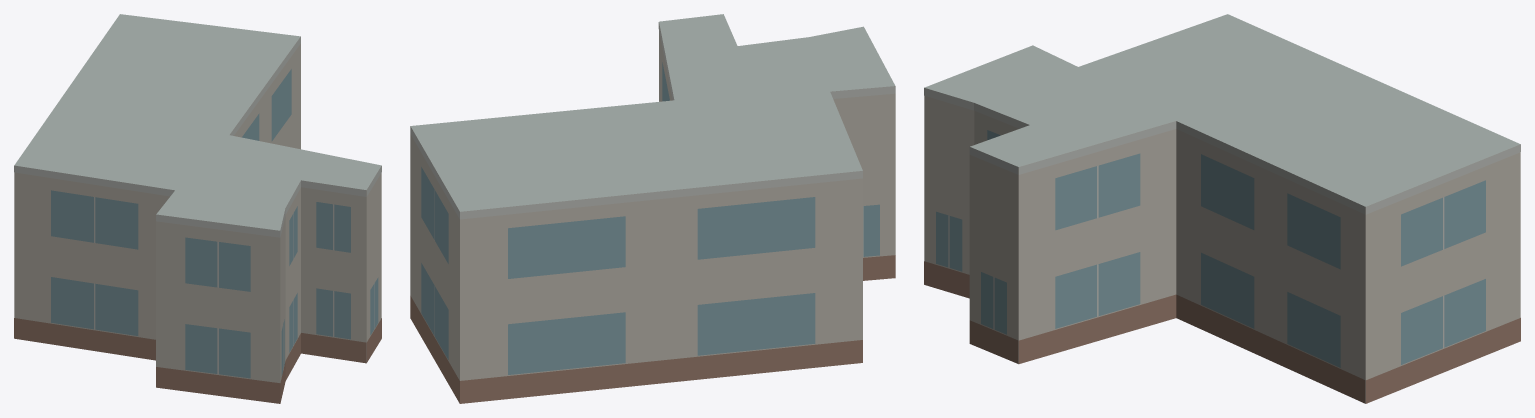
The model's file is survey-upis-32604204.glb.
3 views of the same model, side by side, from view 1: azimuth 30°, elevation 25°; view 2: azimuth 150°, elevation 25°; view 3: azimuth 270°, elevation 25° (orthographic). The views are drawn at different scales.
Parts seen in each view (by area): view 1: survey-upis-32604204.tmp; view 2: survey-upis-32604204.tmp; view 3: survey-upis-32604204.tmp.
Part boxes in pixels (left/top/right/bottom): survey-upis-32604204.tmp: left=14, top=14, right=381, bottom=403; survey-upis-32604204.tmp: left=410, top=14, right=895, bottom=403; survey-upis-32604204.tmp: left=924, top=14, right=1520, bottom=403.
Size of the model in its own units: 12.82 by 6.1 by 16.75.
